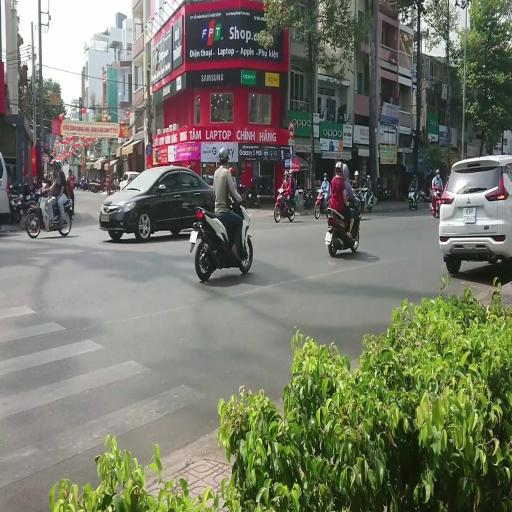bikes: (189, 196, 253, 282), (324, 191, 363, 257), (26, 186, 72, 238), (8, 180, 35, 224), (274, 188, 294, 222), (239, 182, 260, 208), (314, 188, 329, 219), (429, 185, 443, 217), (359, 186, 374, 212), (353, 188, 366, 218), (237, 184, 251, 207), (408, 185, 419, 210), (376, 182, 390, 201), (89, 176, 105, 192), (302, 188, 313, 208), (73, 177, 87, 190)
helmet: (218, 147, 228, 160), (342, 163, 349, 181), (335, 161, 343, 175), (283, 170, 289, 180), (56, 161, 62, 169), (33, 173, 37, 184), (50, 160, 56, 166), (229, 167, 234, 174), (354, 170, 359, 176), (436, 168, 440, 174), (413, 174, 417, 180), (68, 168, 72, 174), (81, 176, 85, 182), (324, 172, 327, 178), (289, 169, 292, 175), (367, 174, 370, 180), (251, 177, 254, 183)
